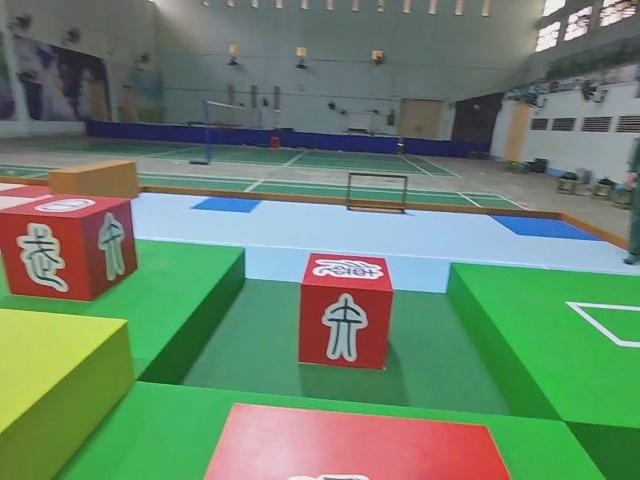R2 Fake: (0, 194, 136, 299), (301, 251, 393, 373)
